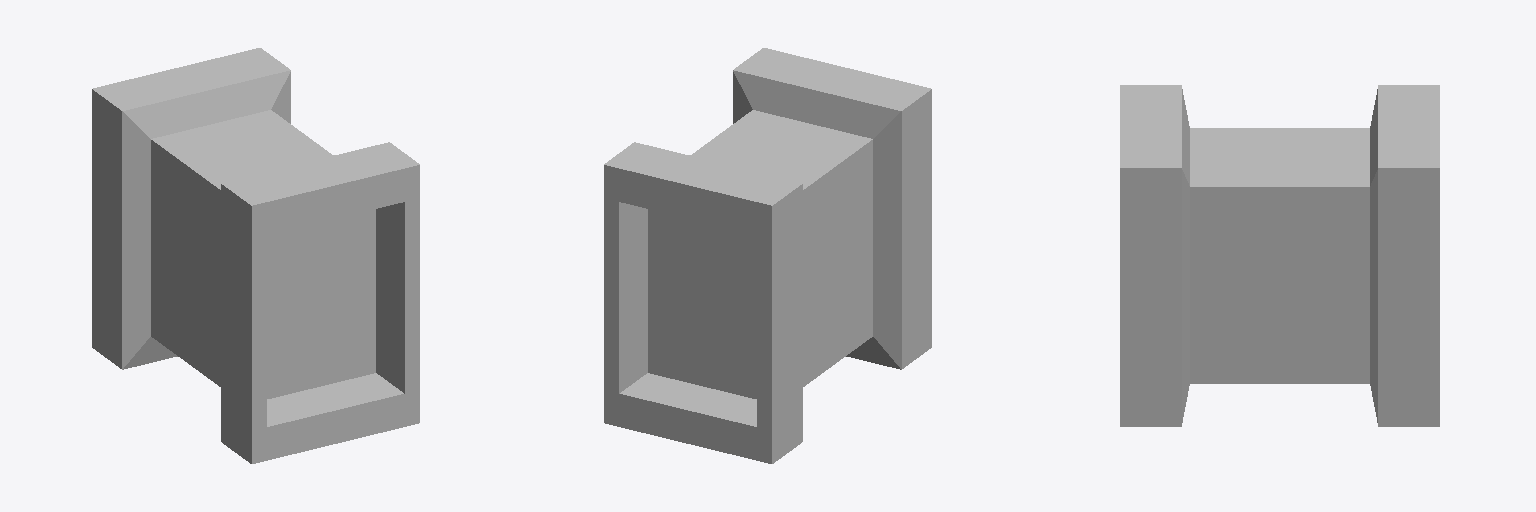
File: Slider.obj
3 renders of one model, left to right at view 1: azimuth 30°, elevation 25°; view 2: azimuth 150°, elevation 25°; view 3: azimuth 270°, elevation 25°, orthographic.
Size of the model in its own units: 0.8455 by 1.24 by 1.39.